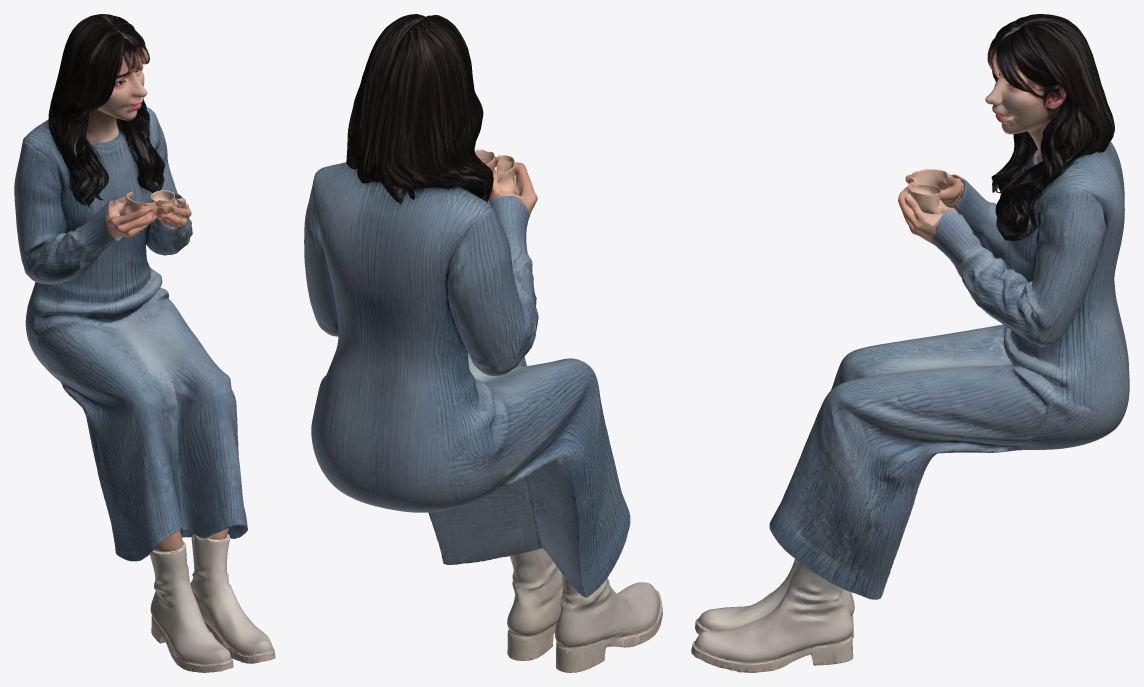
File: rin.glb
3 renders of one model, left to right at view 1: azimuth 30°, elevation 25°; view 2: azimuth 150°, elevation 25°; view 3: azimuth 270°, elevation 25°, orthographic. The views are drawn at different scales.
Visible parts, largest first — view 1: model; view 2: model; view 3: model.
Boxes of the visible parts, left/top/right/bottom form: model: left=14, top=14, right=275, bottom=672; model: left=304, top=14, right=662, bottom=672; model: left=691, top=14, right=1129, bottom=672.
Size of the model in its own units: 0.5309 by 1.72 by 1.07.
1 material, 1 textured.
